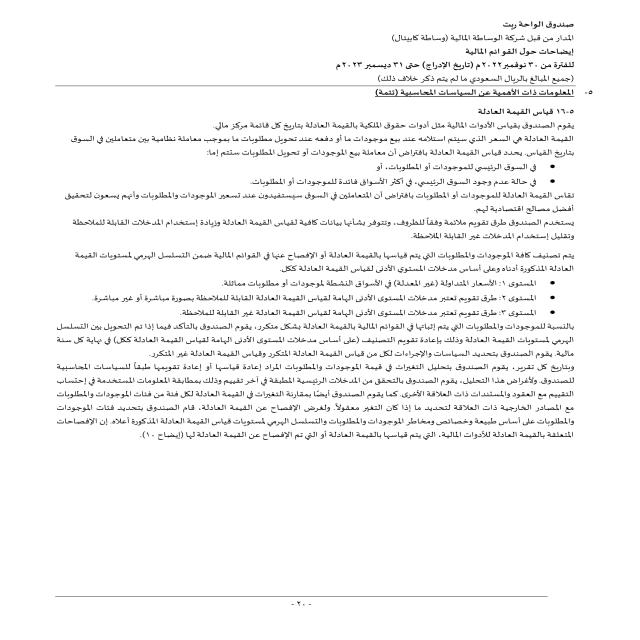notes: (462, 44, 588, 59)
text: (34, 102, 592, 460)
